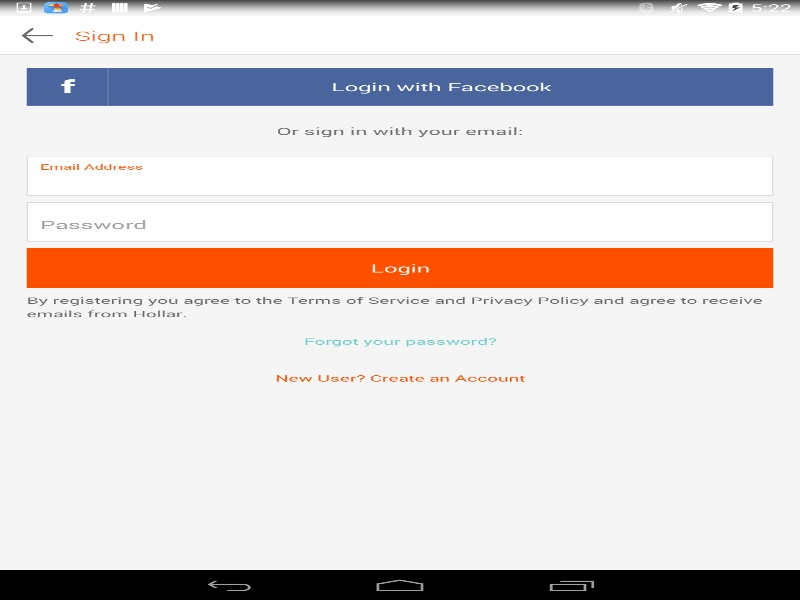Button: (26, 247, 773, 288), (26, 68, 773, 105), (0, 15, 74, 55)
Input: (40, 169, 760, 189), (40, 215, 760, 235)
